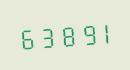eight: (56, 20, 74, 49)
nine: (75, 19, 93, 47)
one: (94, 17, 112, 46)
six: (18, 23, 36, 51)
three: (37, 21, 55, 50)
